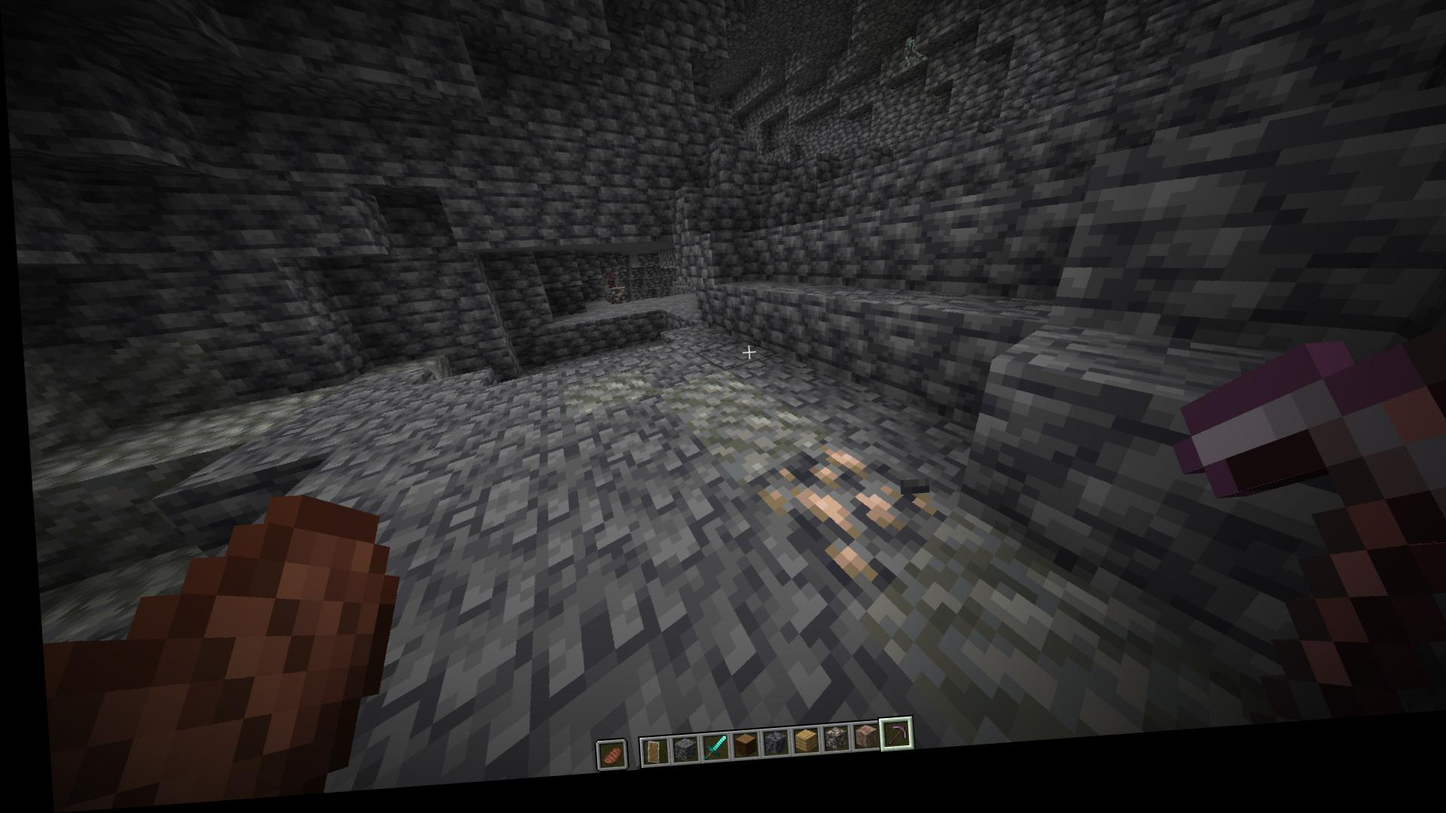iron ore: (743, 449, 942, 611), (605, 295, 625, 312)
